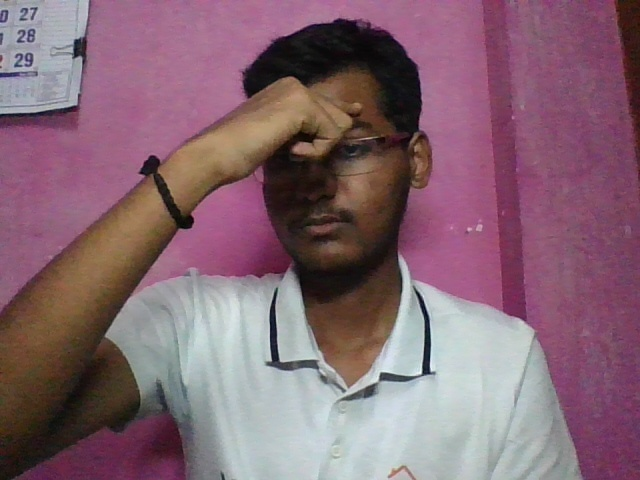Hello: (171, 69, 404, 188)
